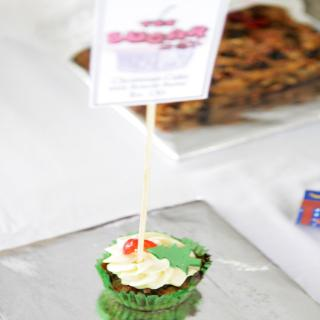Muffin: (94, 227, 213, 313)
